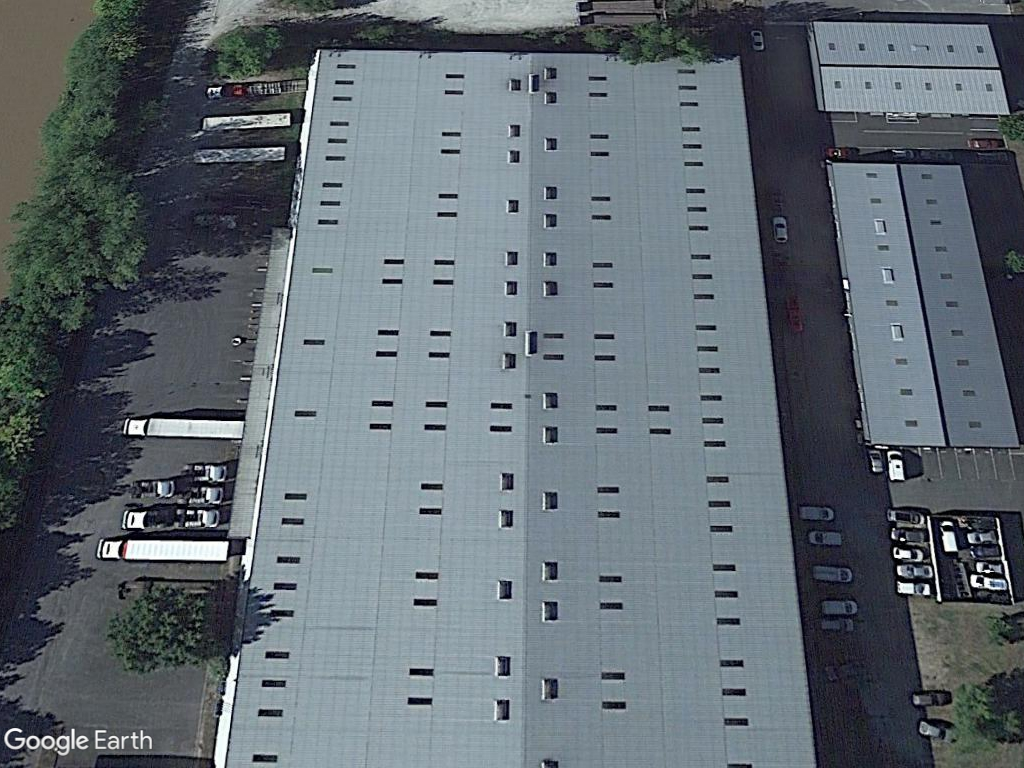longvehicle: (93, 532, 234, 565), (120, 410, 250, 444)
van: (881, 442, 908, 486)
